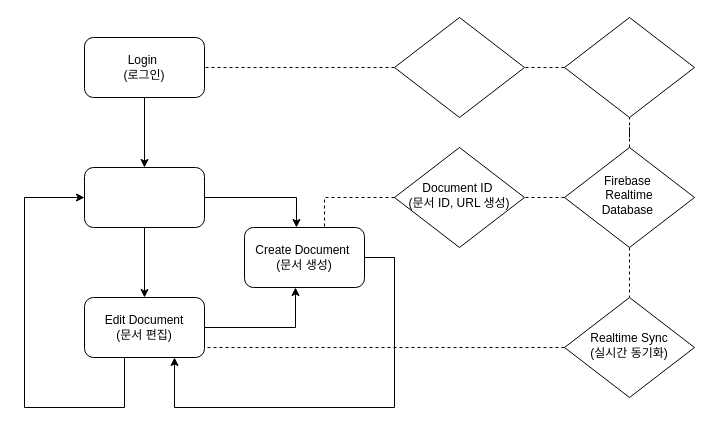
Image size: 712x433. Some labels were removed from this diagram. Each missing label, with the centre of its shape:
"Firebase Auth (Google 로그인)" belongs at [459,67].
"My Documents (문서 목록)" belongs at [144,197].
"Zustand User Store (상태 관리)" belongs at [629,67].
